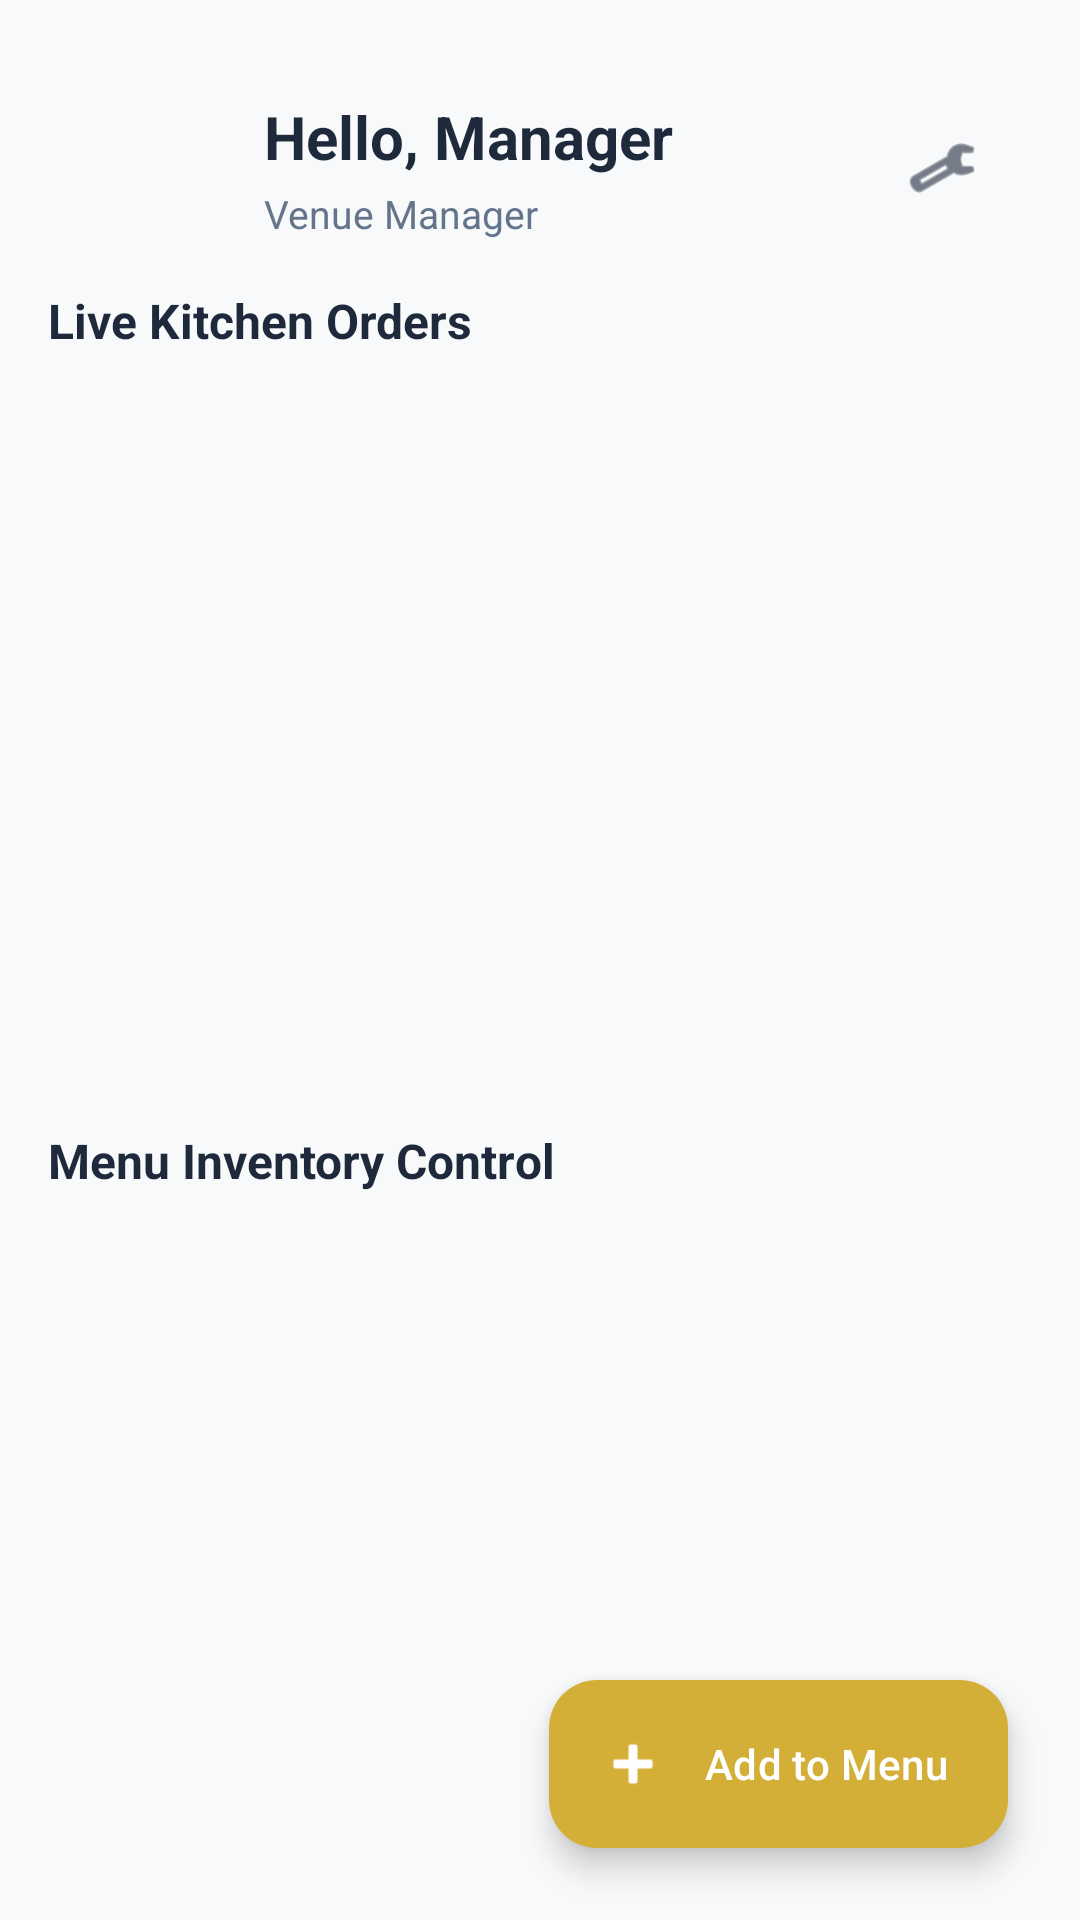

Locate icon controls on the screen. Image size 1080 × 1920, boxes as bbox=(x1, y1, x2, y2).
preferences: bbox=(909, 143, 974, 193)
